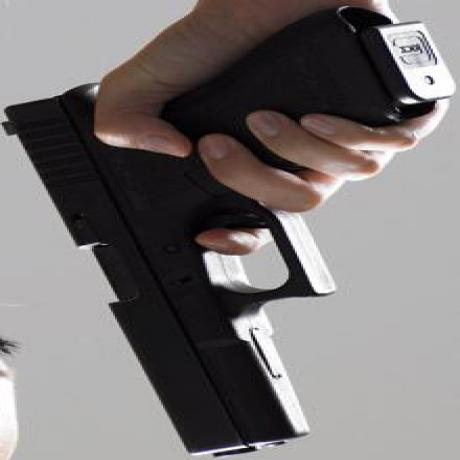1: (87, 0, 460, 256)
weapon: (18, 0, 454, 456)
